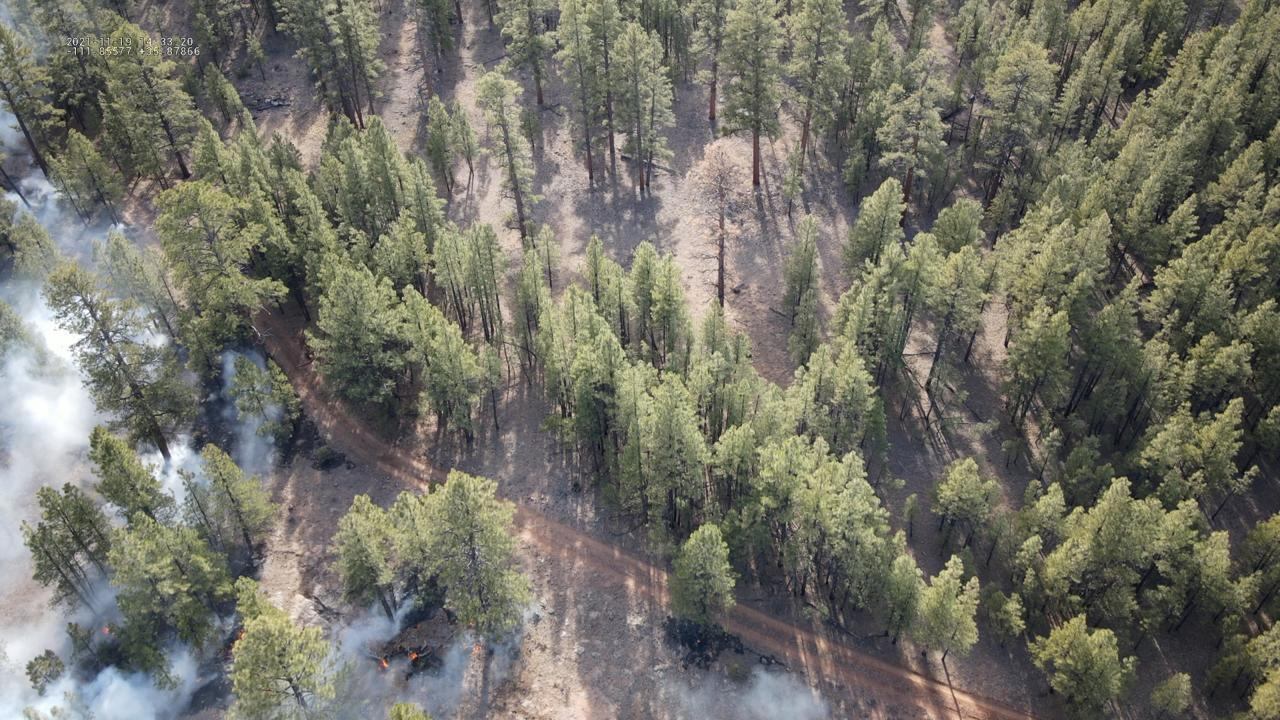fire: (472, 642, 483, 656), (381, 658, 390, 670), (238, 628, 246, 641), (101, 625, 111, 635), (409, 652, 419, 661)
smoke: (0, 176, 524, 720), (0, 0, 65, 156), (665, 664, 833, 720)
